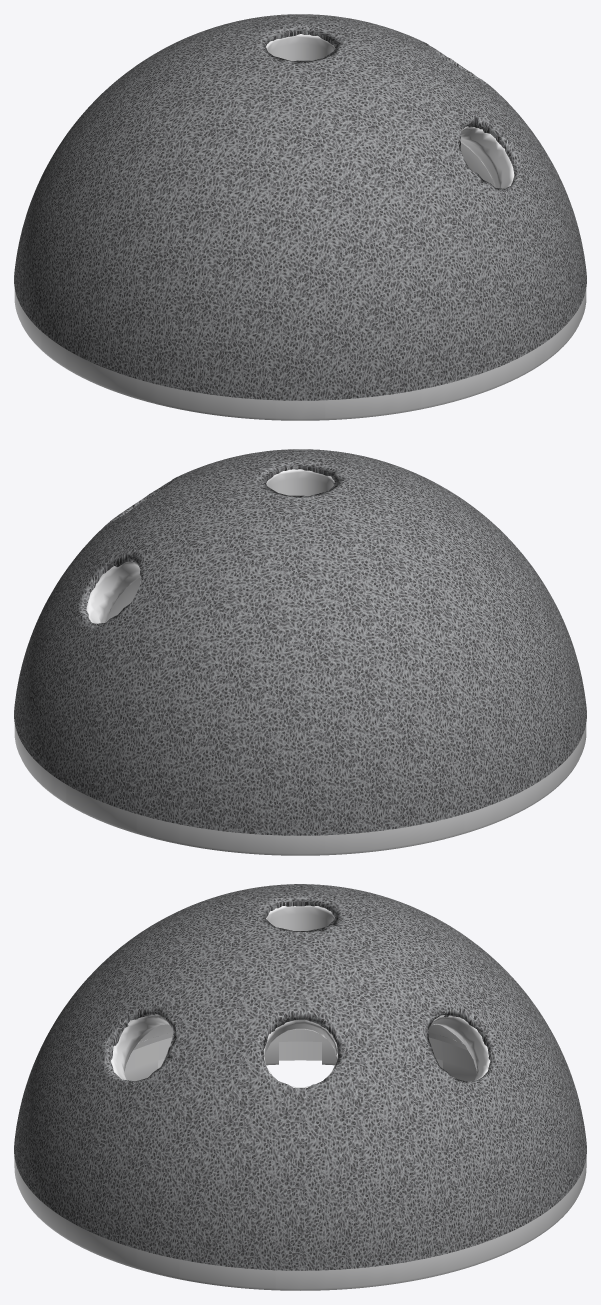
File: cup_apex_3dtf_52_lod0.glb
3 renders of one model, top to bottom at view 1: azimuth 30°, elevation 25°; view 2: azimuth 150°, elevation 25°; view 3: azimuth 270°, elevation 25°, orthographic.
Parts seen in each view (by area): view 1: cup_apex_3dtf_52; view 2: cup_apex_3dtf_52; view 3: cup_apex_3dtf_52.
Boxes of the visible parts, x1,y1,x2,y2 form: cup_apex_3dtf_52: (14,14,586,420); cup_apex_3dtf_52: (14,449,586,855); cup_apex_3dtf_52: (14,884,586,1290).
Size of the model in its own units: 0.0518 by 0.0257 by 0.0518.
Materials: 2 (1 with a texture image).
